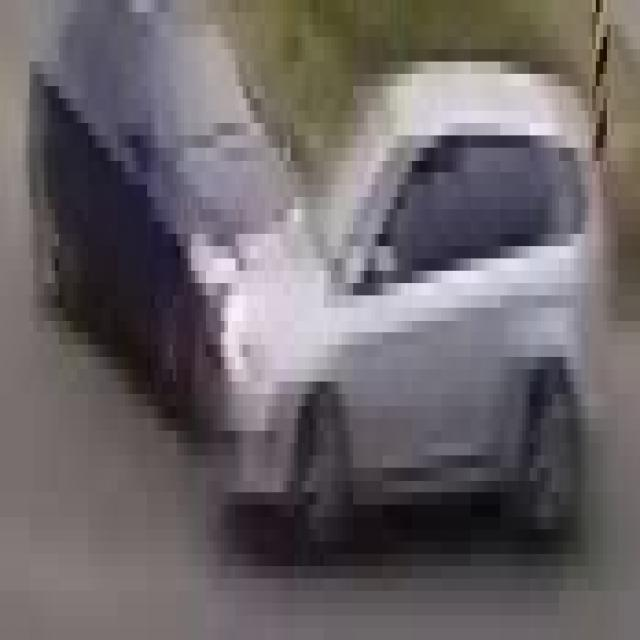accident: (40, 42, 583, 536)
